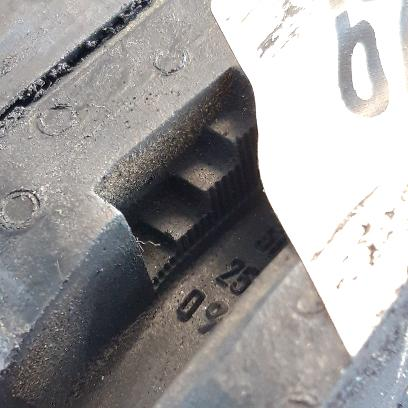temoin:100: (90, 63, 270, 297)
